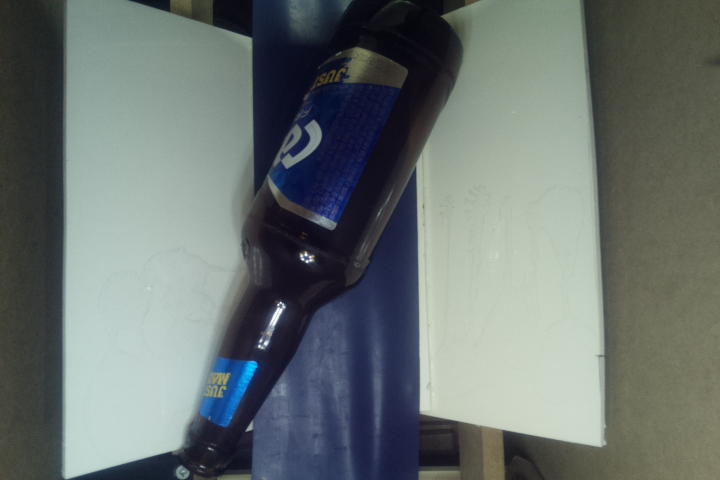makju: (170, 3, 471, 476)
